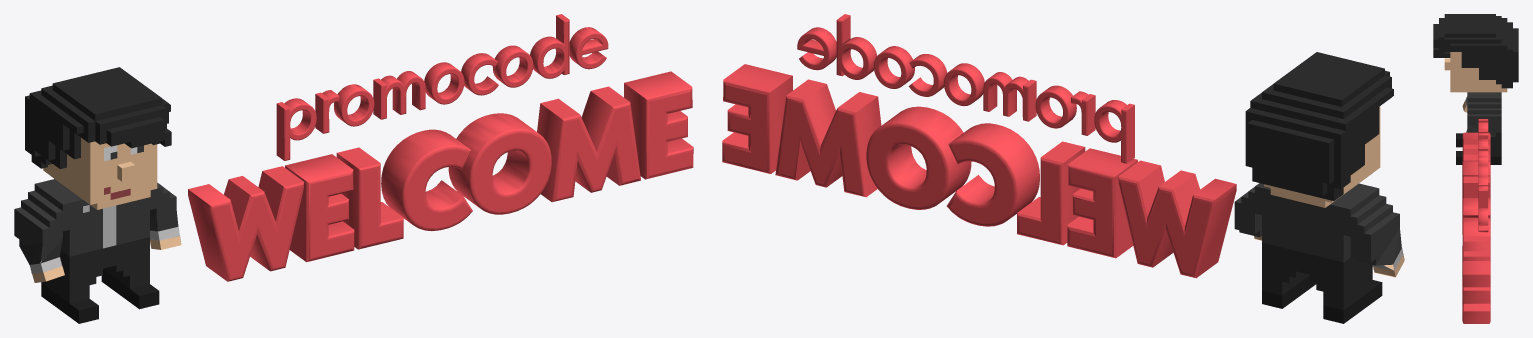
File: end.glb
3 renders of one model, left to right at view 1: azimuth 30°, elevation 25°; view 2: azimuth 150°, elevation 25°; view 3: azimuth 270°, elevation 25°, orthographic. The views are drawn at different scales.
Visible parts, largest first — view 1: Текст, man; view 2: Текст, man; view 3: man, Текст.
Part boxes in pixels (box(x1,y1,x2,y2)): Текст: box(188, 14, 693, 281); man: box(14, 67, 181, 323); Текст: box(722, 14, 1236, 278); man: box(1234, 52, 1404, 323); man: box(1433, 14, 1518, 164); Текст: box(1462, 119, 1490, 323).
Size of the model in its own units: 11.03 by 3.49 by 2.08.
Materials: 2 (1 with a texture image).
